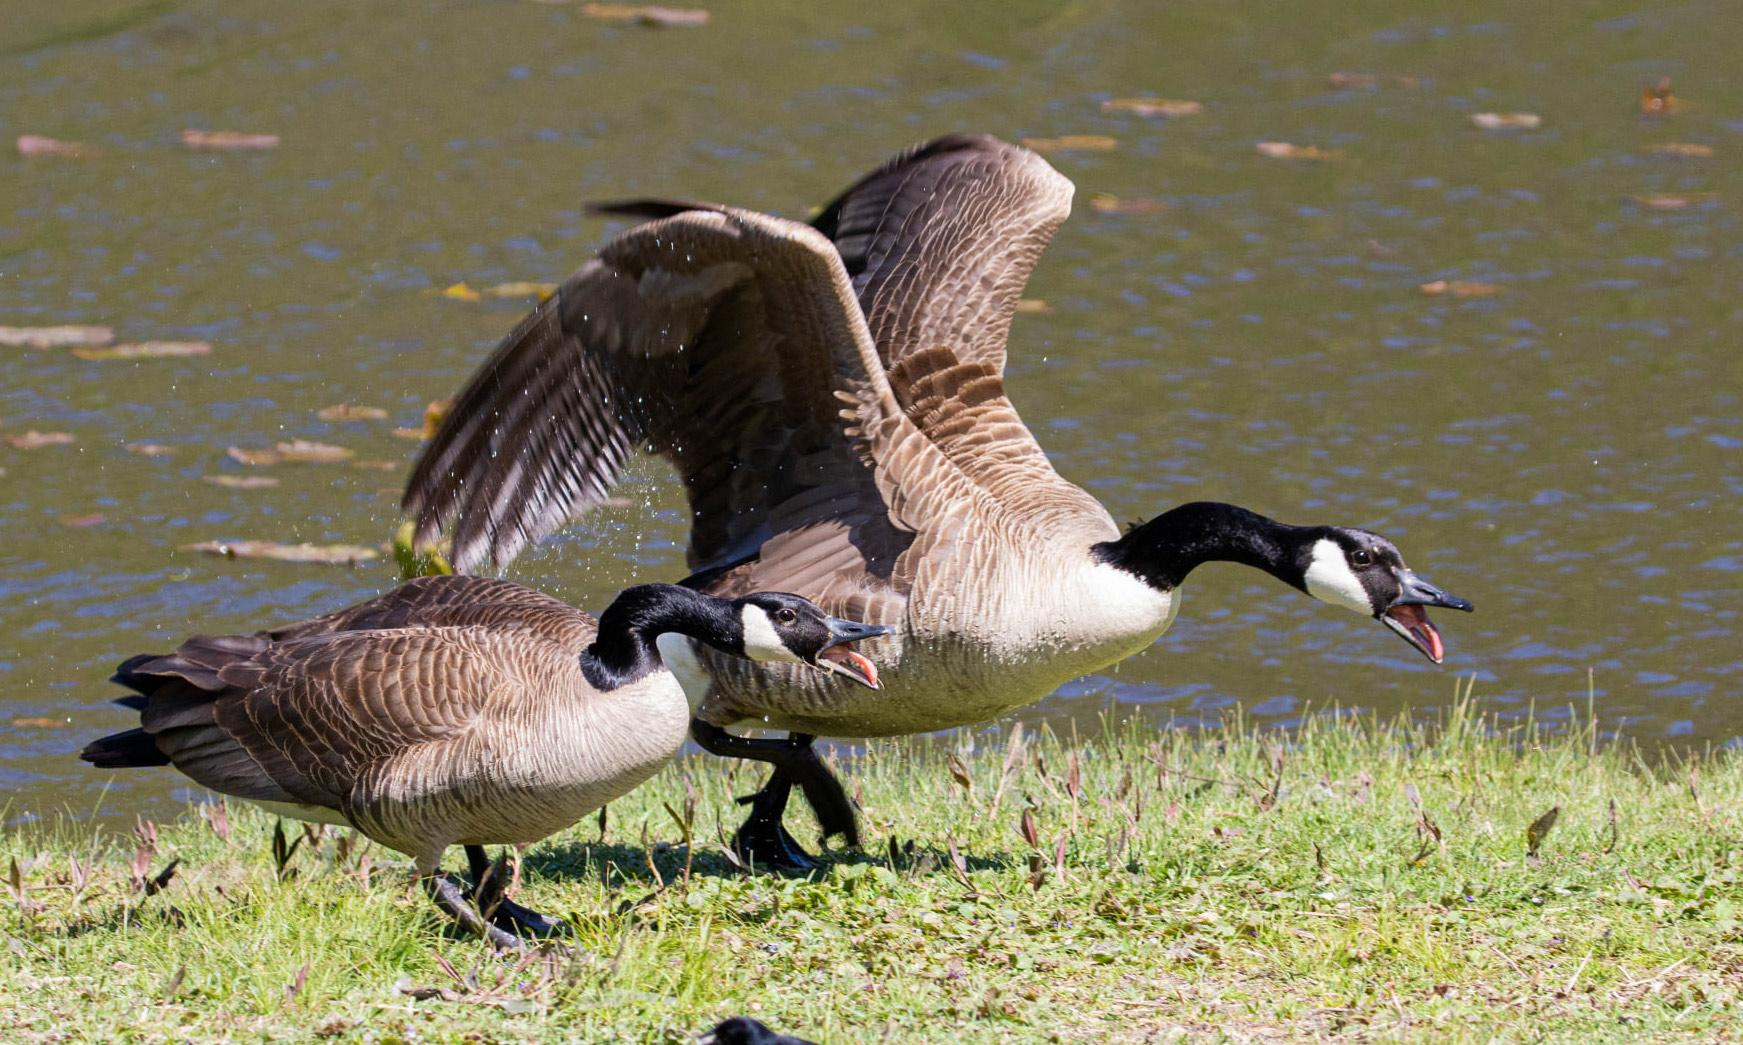Canadian-Goose: (682, 134, 1464, 863), (102, 571, 880, 948)
